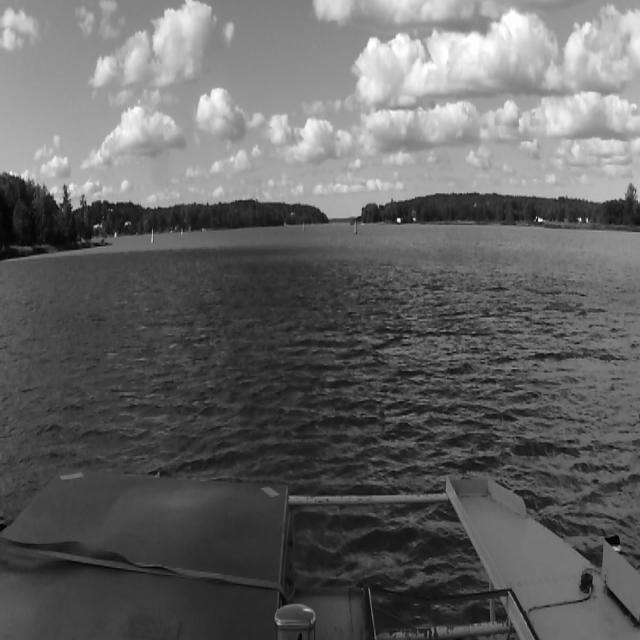buoy: (353, 223, 358, 237), (150, 231, 154, 247), (180, 227, 184, 238)
